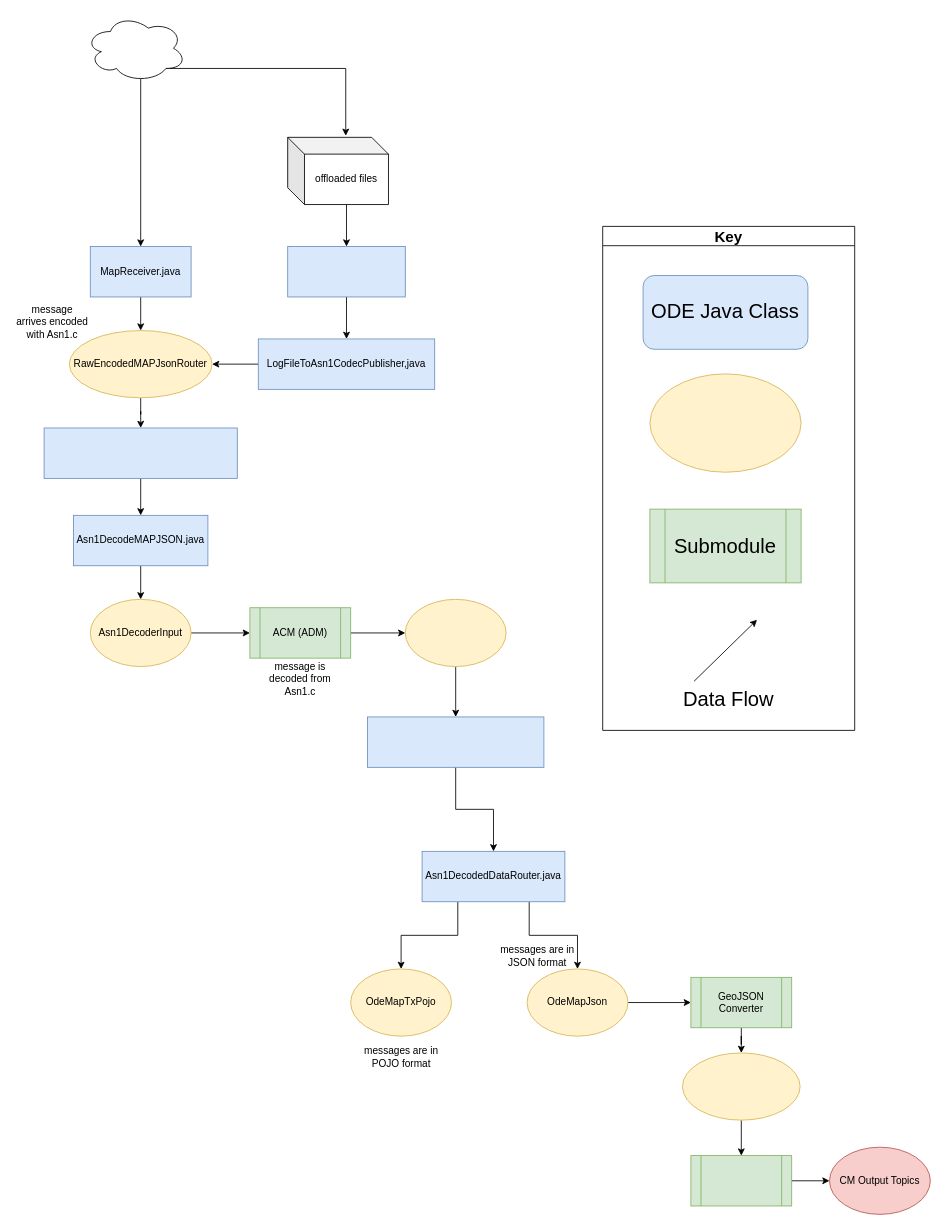
Some shapes in this 945 by 1230 pixel diagram are drawn without their labels. The centre of each missing label's shape, as x and y in pixels:
"Asn1DecoderOutput" goes at (x=455, y=632).
"AsnCodecMessageServiceController.java" goes at (x=140, y=452).
"AsnCodecRouterServiceController.java" goes at (x=455, y=741).
"Conflict Monitor" goes at (x=741, y=1180).
"FileUploadController.java" goes at (x=346, y=271).
"Kafka Topic" goes at (x=725, y=422).
"ProcessedOdeMapJson" goes at (x=741, y=1086).
